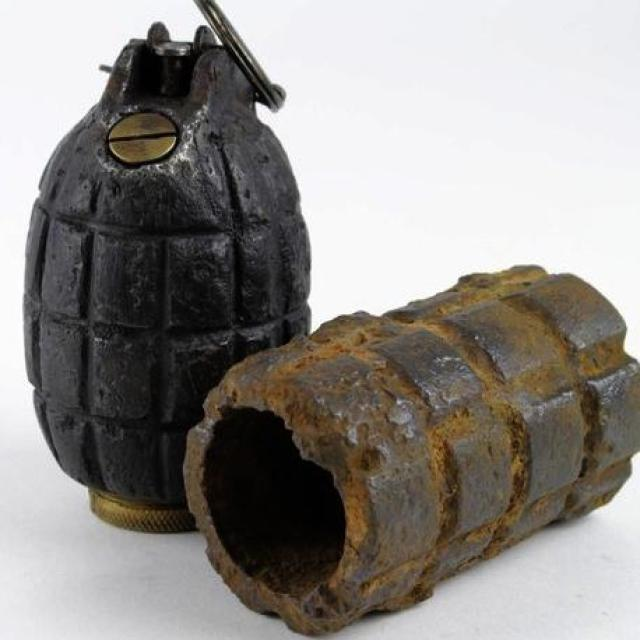grenade: (21, 1, 316, 538)
